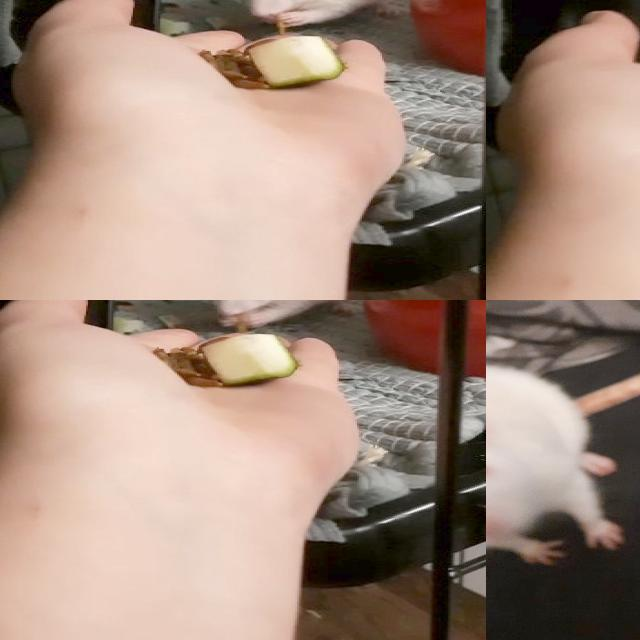rat: (486, 362, 623, 570), (232, 0, 419, 29), (202, 300, 381, 330)
